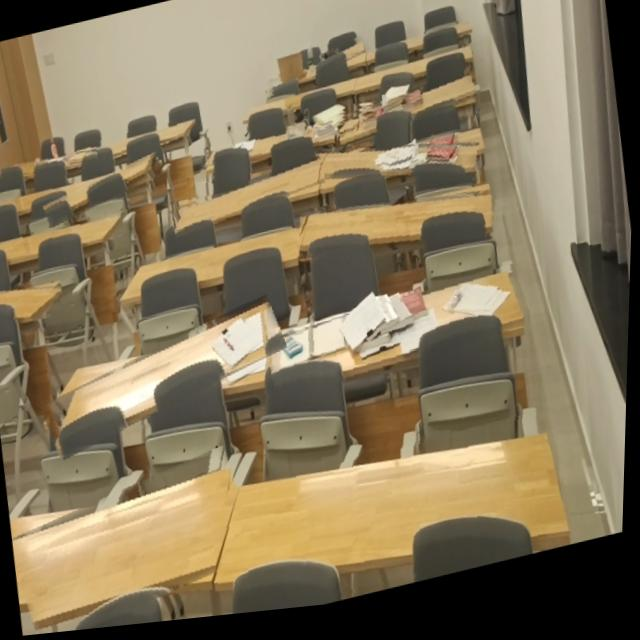Non-empty: (59, 304, 276, 448), (277, 283, 533, 388), (341, 79, 476, 155), (207, 122, 346, 169), (270, 45, 362, 101), (316, 154, 479, 185), (3, 154, 105, 179)
empty: (223, 446, 574, 593), (16, 469, 232, 629), (123, 232, 309, 309), (177, 163, 321, 236), (301, 205, 497, 257), (52, 157, 158, 229), (0, 219, 123, 264), (101, 119, 200, 160), (0, 287, 62, 320)
